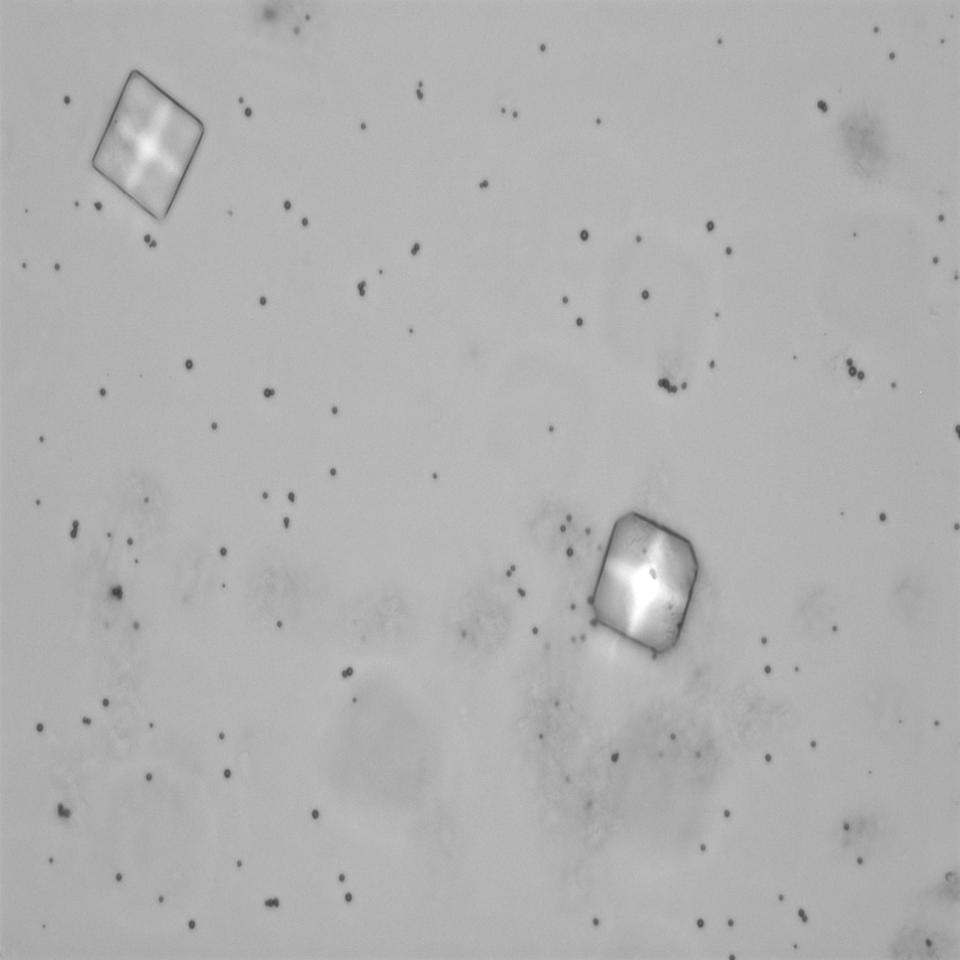crystal: (82, 61, 202, 228), (586, 500, 698, 649)
